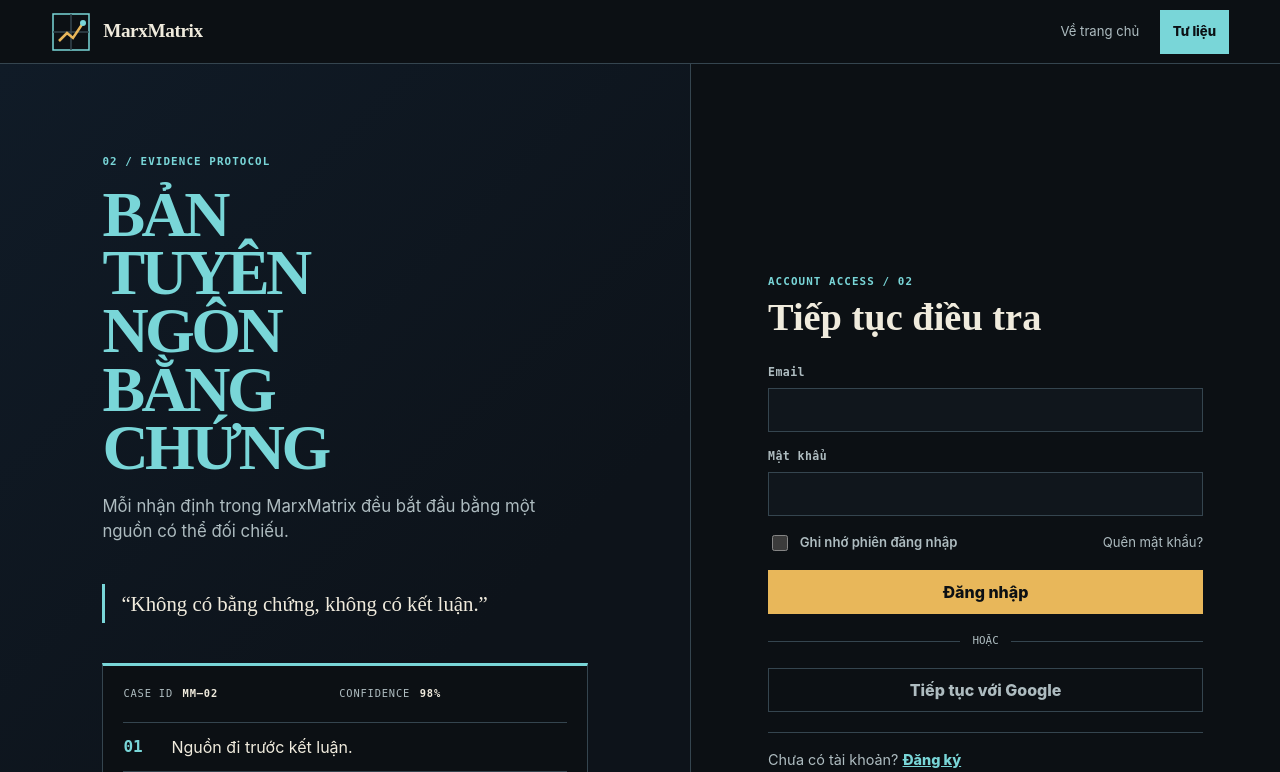
Test: auth pages › announces a server error inline
In the field labelled "Email": (986, 410) [768,388,1203,432], type "student@example.test"
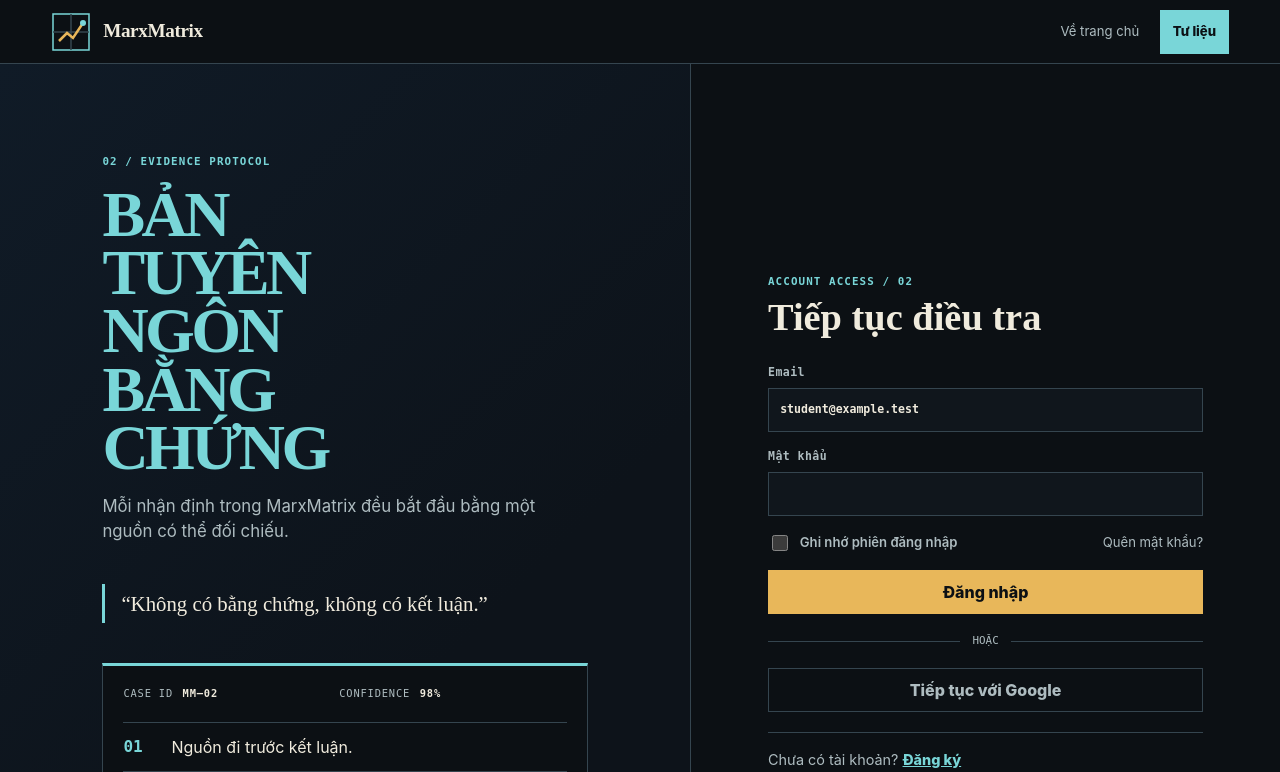
In the password field labelled "Mật khẩu": (986, 494) [768,472,1203,516], type "correct horse battery staple"
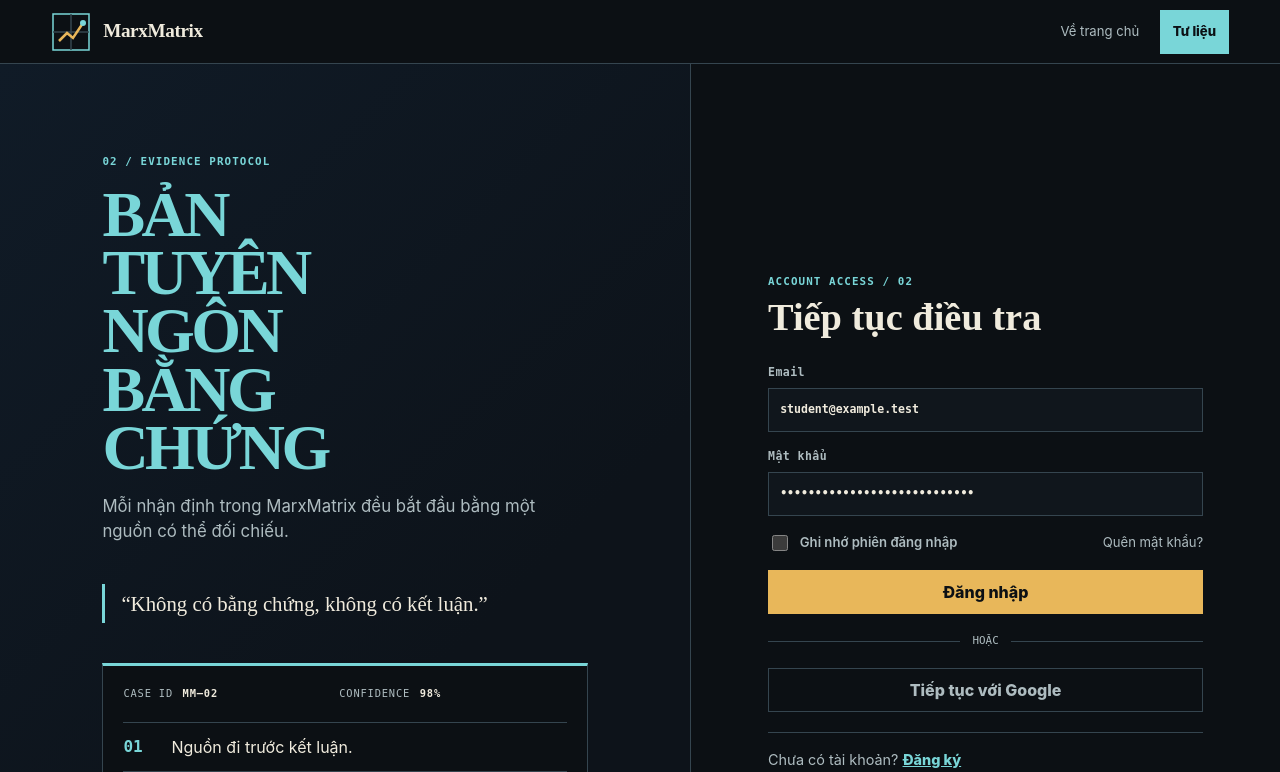
Click the button "Đăng nhập": (986, 592) [768,570,1203,614]
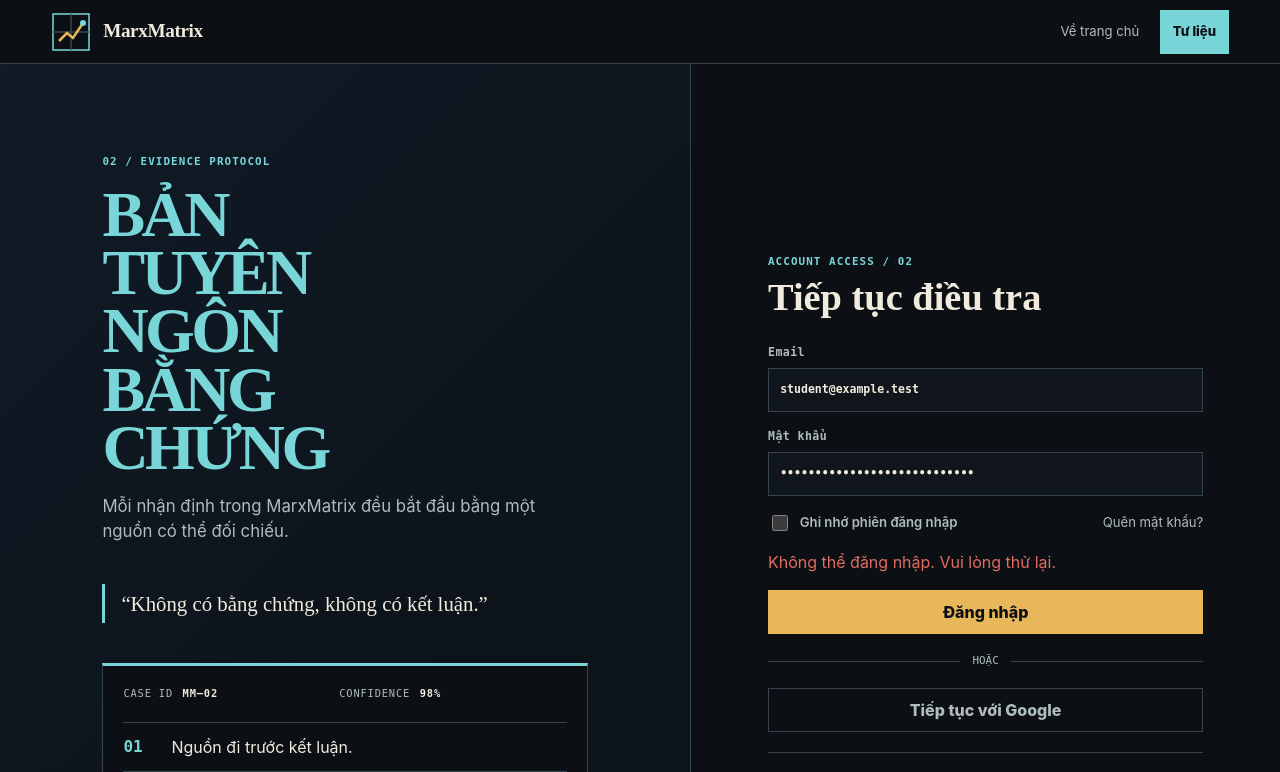
Check: the message "Không thể đăng nhập. Vui lòng thử lại." is shown, box [768,552,1056,572]
